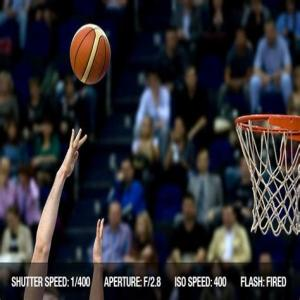Basket: (70, 21, 111, 85)
